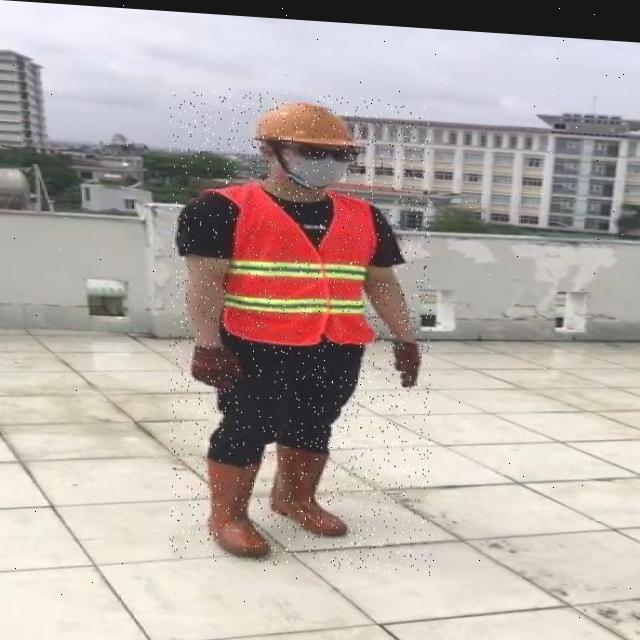Gloves: (191, 340, 244, 387), (392, 333, 420, 382)
Helmet: (254, 95, 358, 188)
Safety-Boot: (269, 437, 347, 532), (206, 447, 268, 555)
Safety-Vest: (200, 175, 379, 347)
